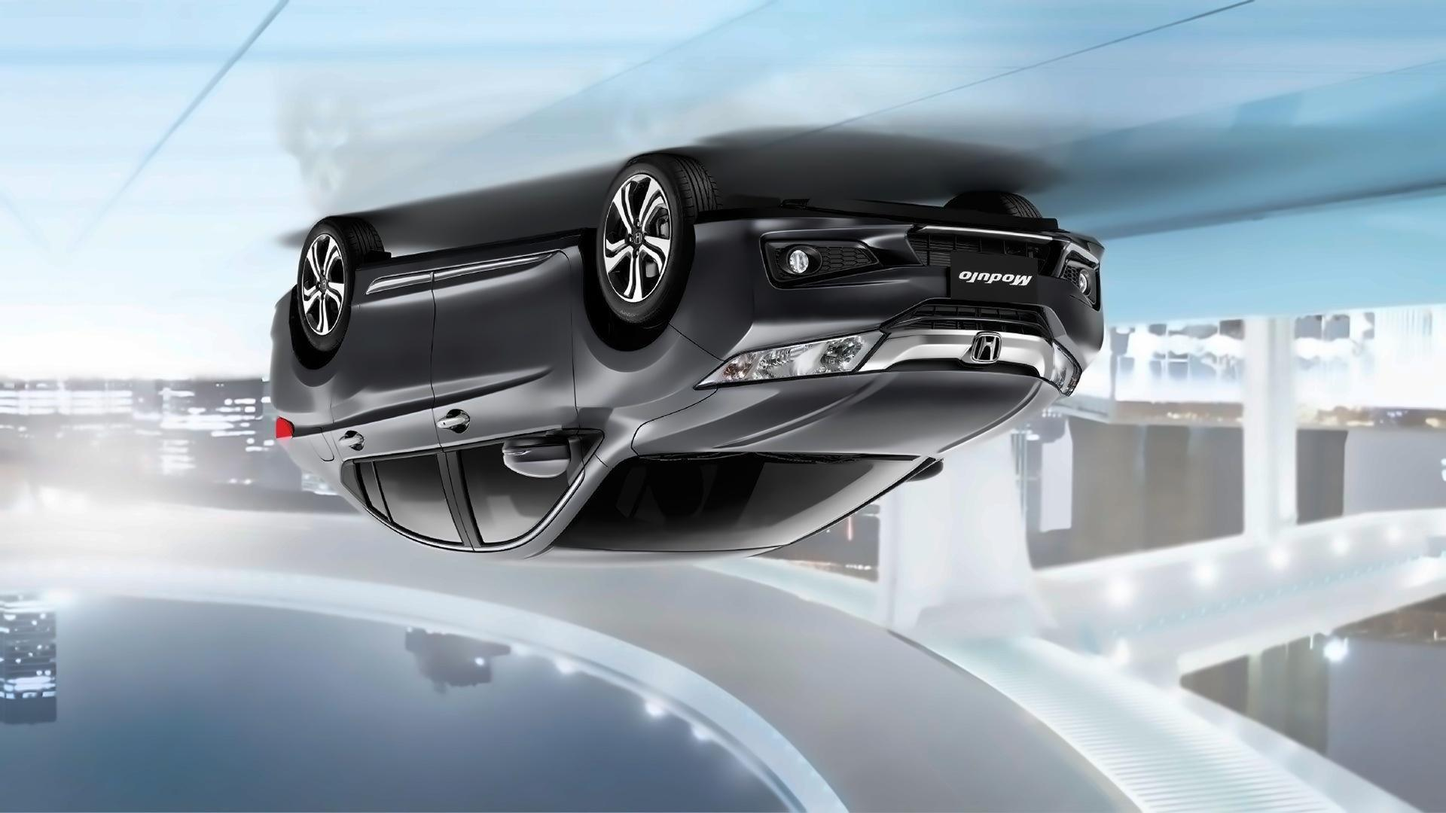Car hood: (625, 361, 1070, 460)
Fender - -F-L-: (561, 241, 729, 469)
Fender - -R-L-: (268, 255, 359, 431)
Front bumper: (670, 197, 1113, 354)
Headlight - -L-: (693, 319, 891, 395)
Headlight - -R-: (1034, 323, 1086, 404)
Passenger-s door - -F-L-: (433, 249, 589, 556)
Passenger-s door - -R-L-: (329, 267, 448, 549)
Rear bumper: (224, 287, 312, 352)
Rear light - -L-: (256, 410, 316, 451)
Side bumper - -L-: (349, 222, 592, 310)
Side mirror - -L-: (493, 423, 587, 485)
Side mirror - -R-: (899, 442, 949, 495)
